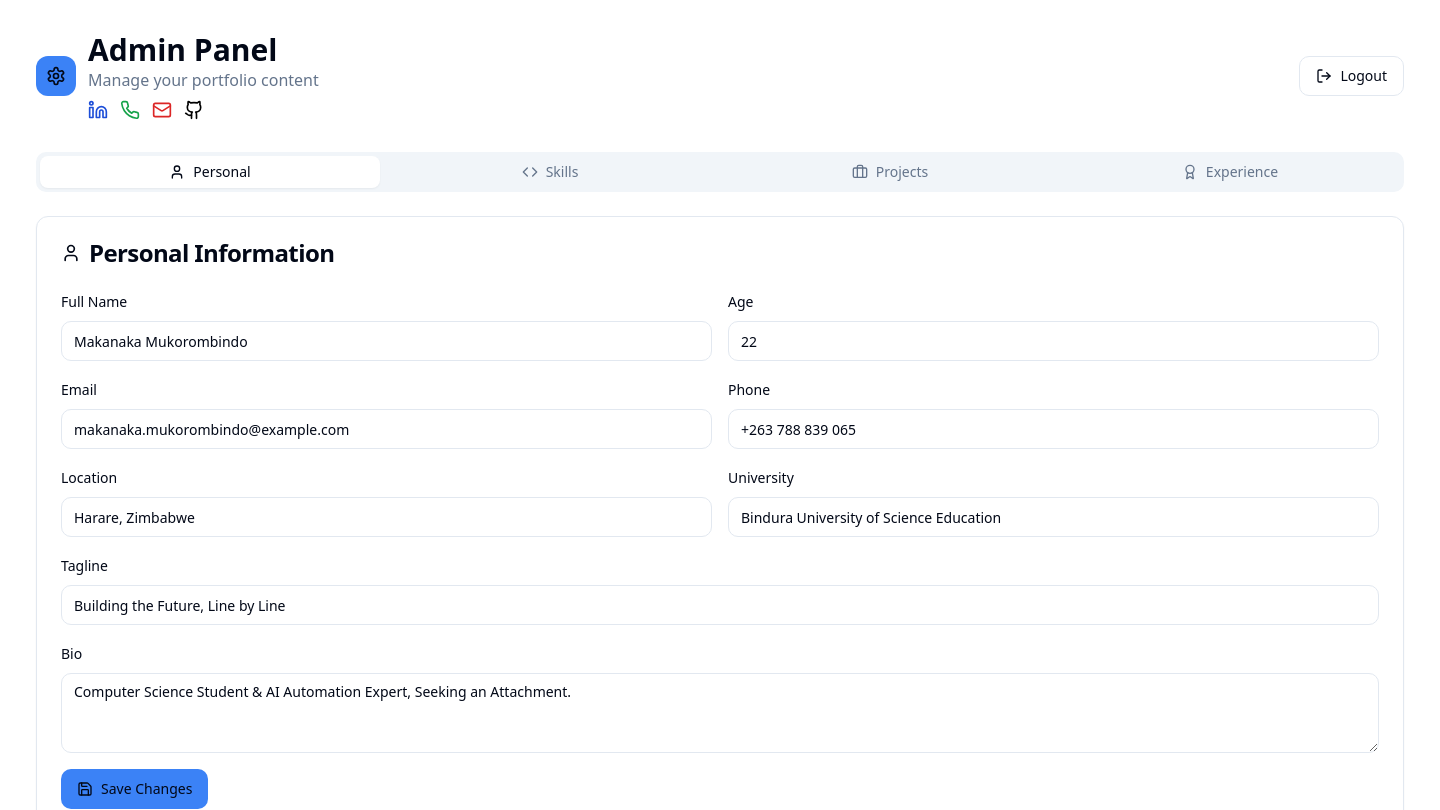
Test: AdminPanel Component › validates required fields in personal information
Clear the field labelled "Full Name": (386, 341) left=61, top=321, right=712, bottom=361
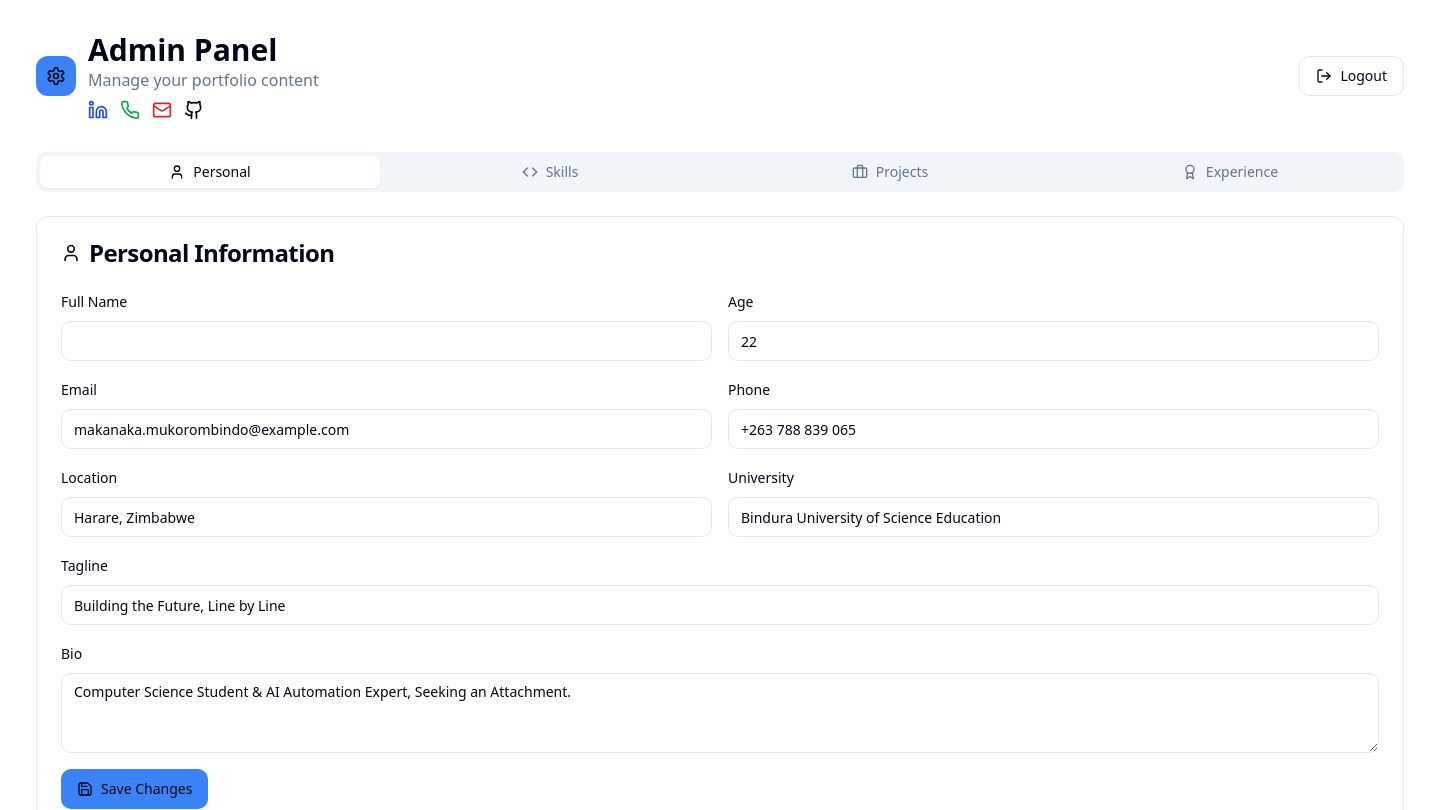
Clear the field labelled "Email": (386, 429) left=61, top=409, right=712, bottom=449
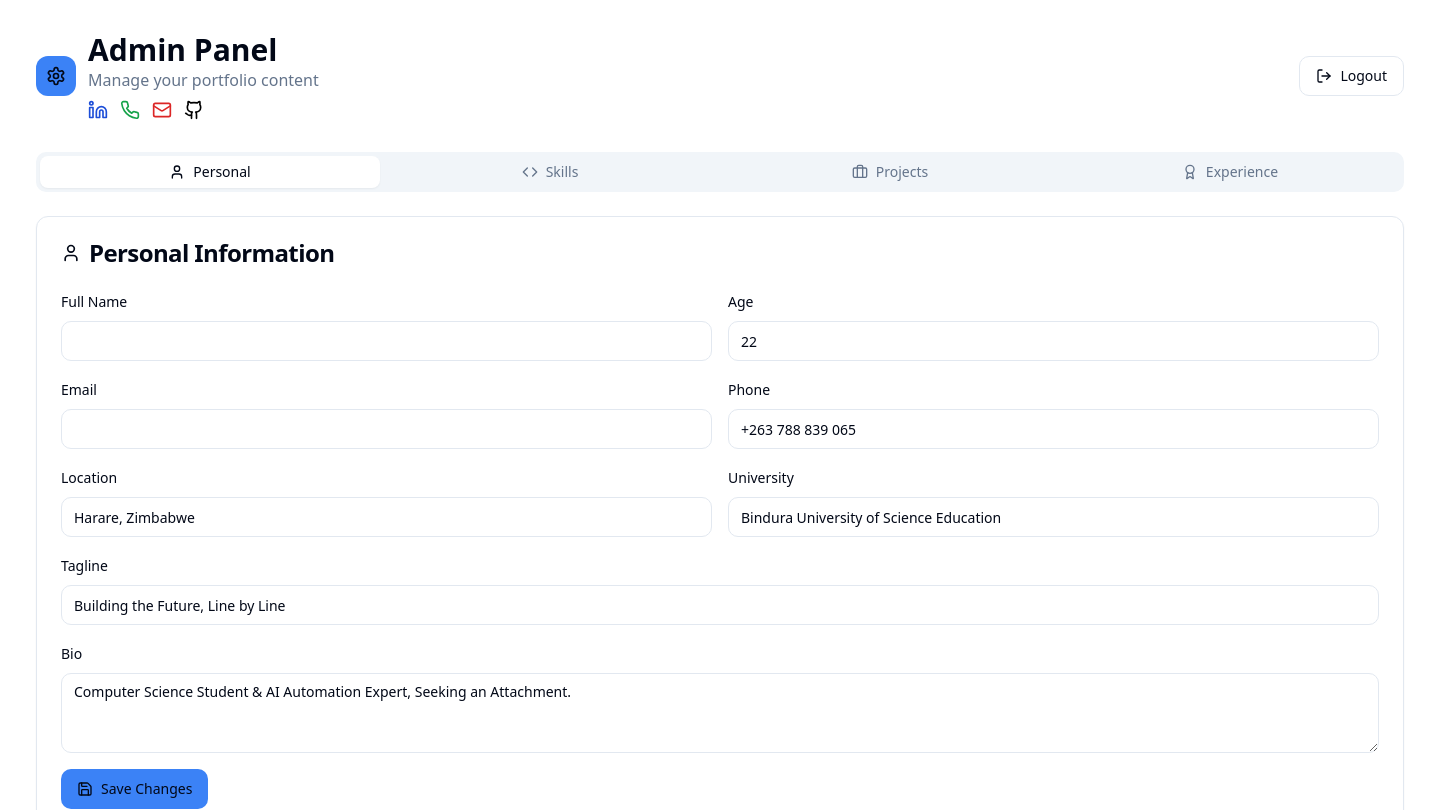
Click the button "Save Changes": (135, 789) left=61, top=769, right=208, bottom=809
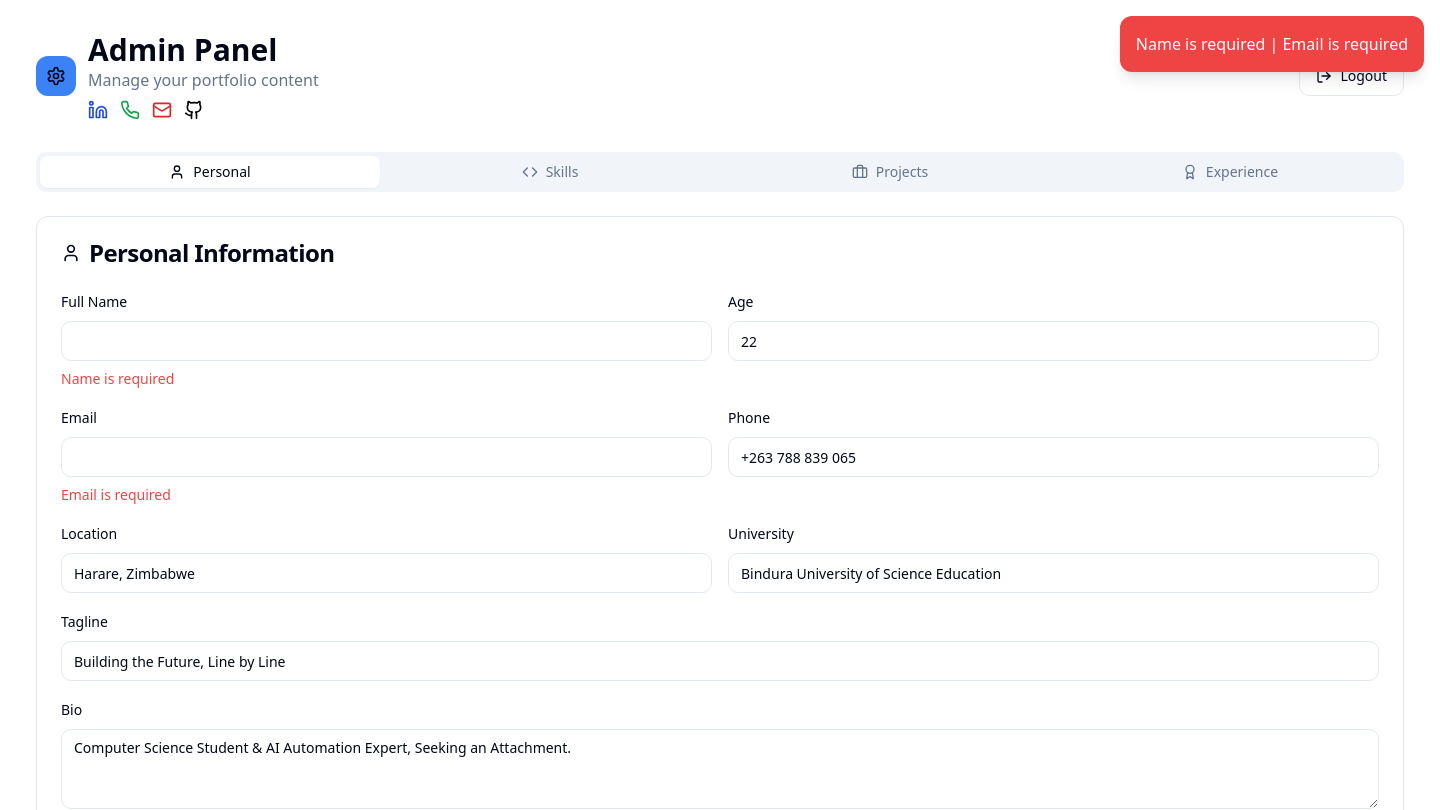
Expected: the text "Name is required | Email is required" is shown, left=1120, top=16, right=1424, bottom=72
